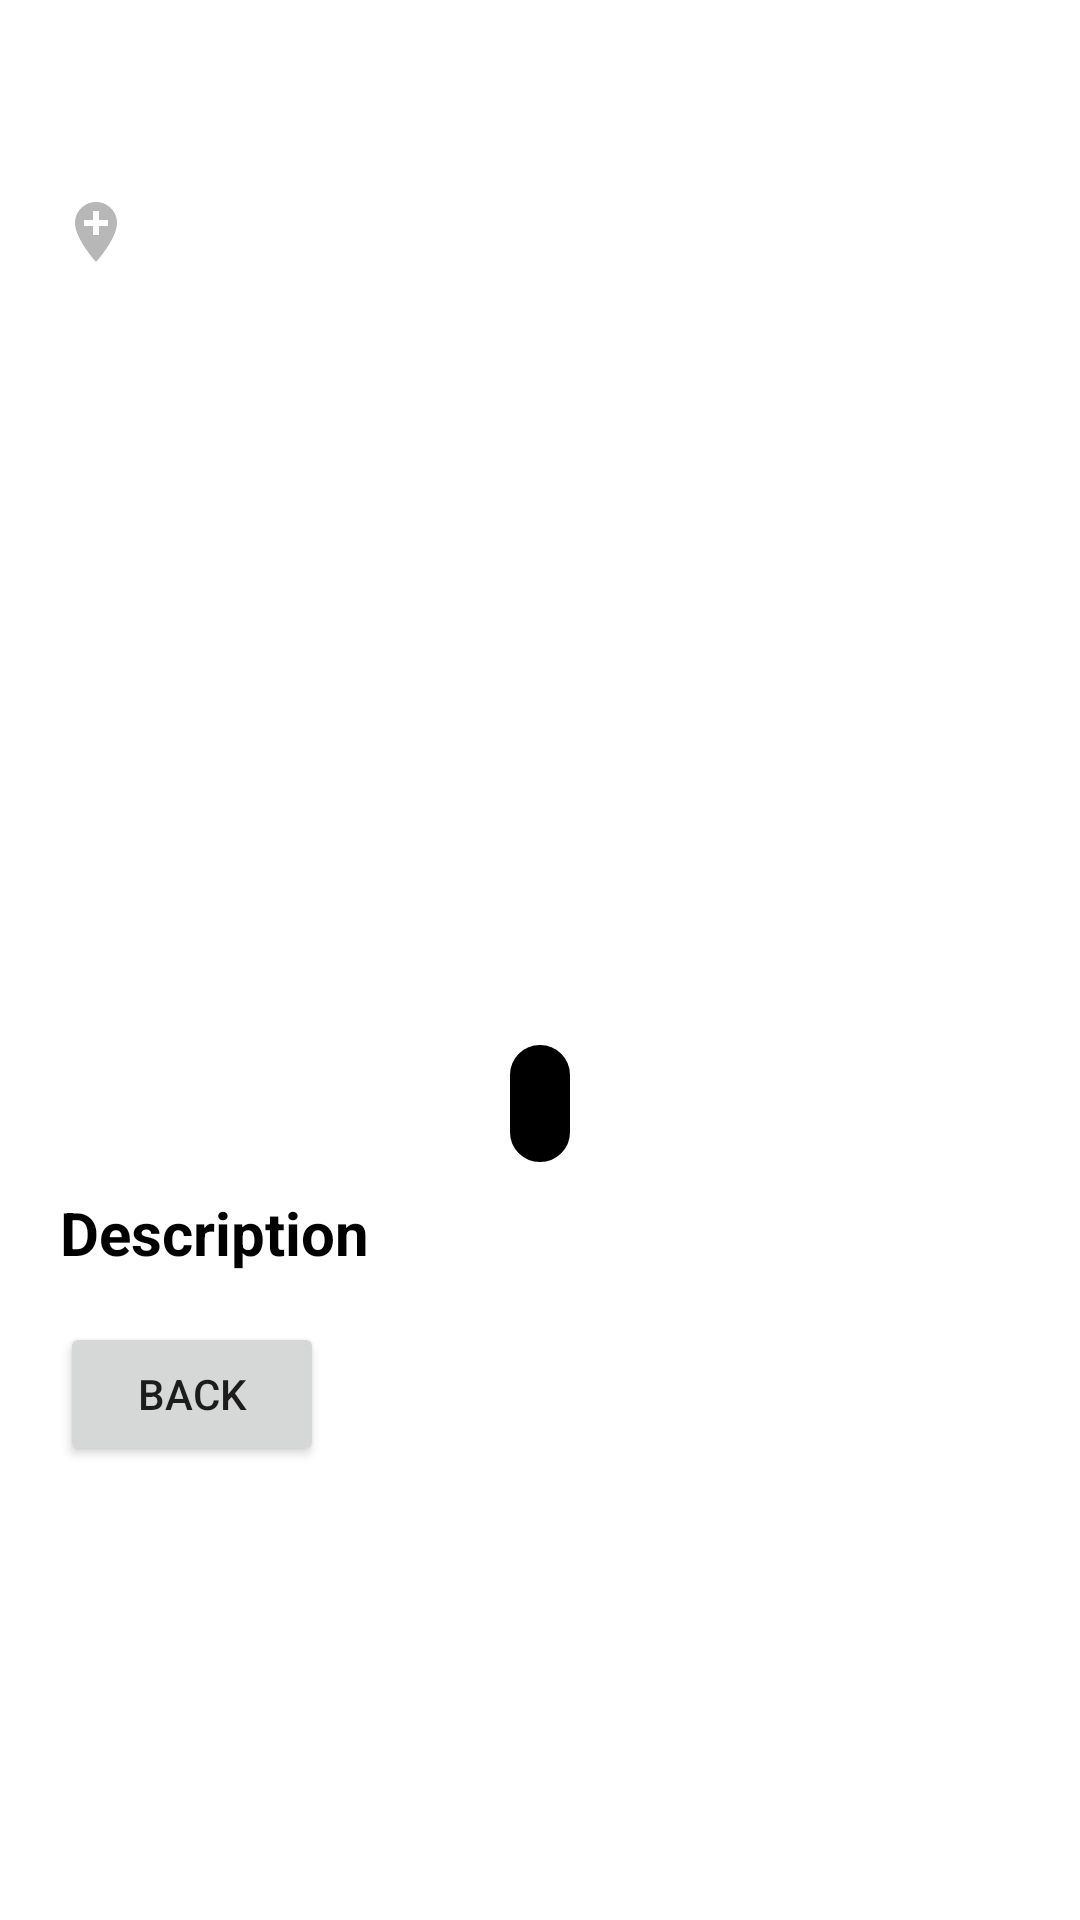

Where icons sit on this 1080px x 1920px app screen, as (x1, y1, x2, y2):
address: (75, 202, 117, 262)
